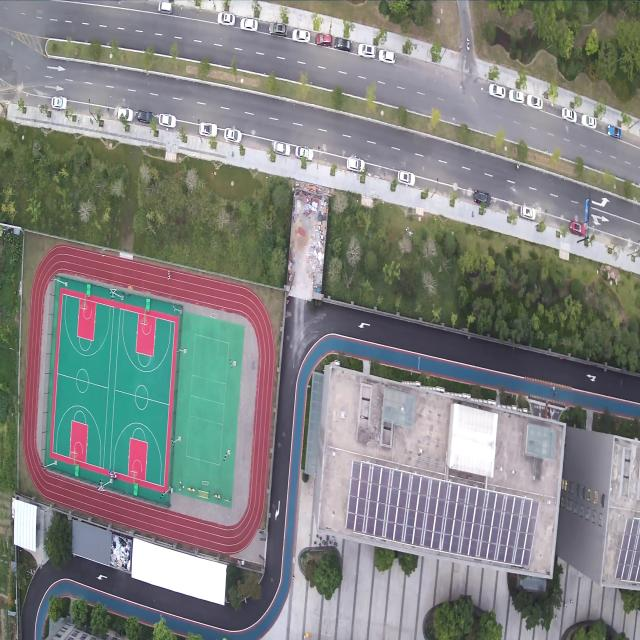UAV: (98, 247, 105, 256)
